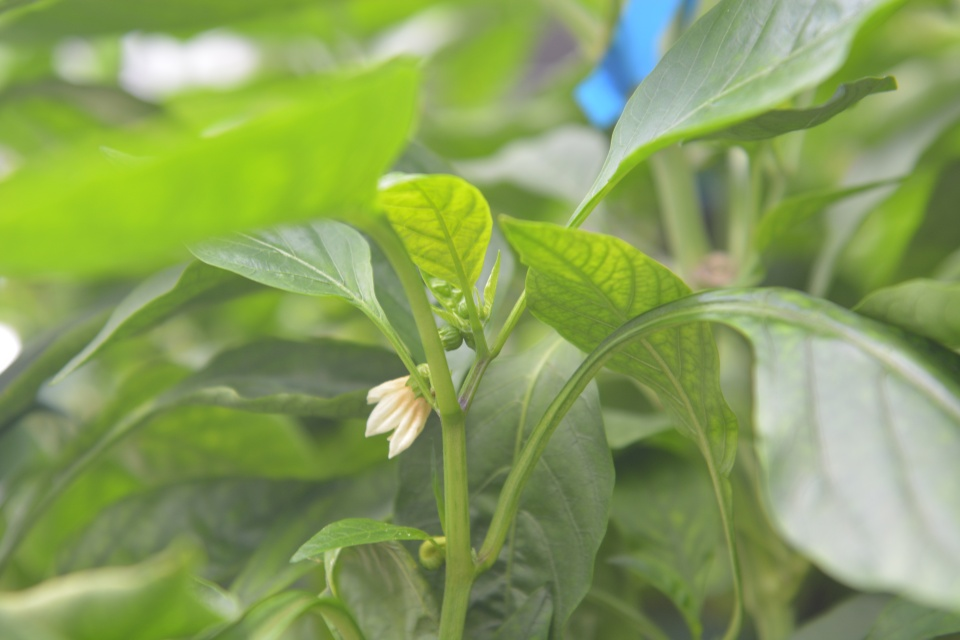flower: (358, 368, 435, 461)
